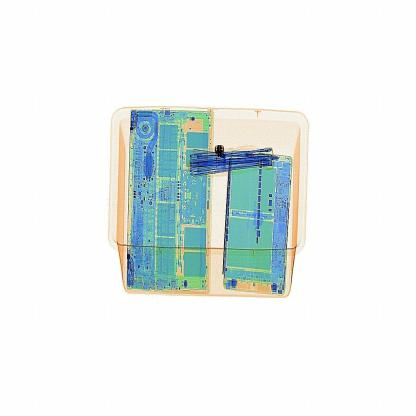scissors: (208, 137, 228, 164)
